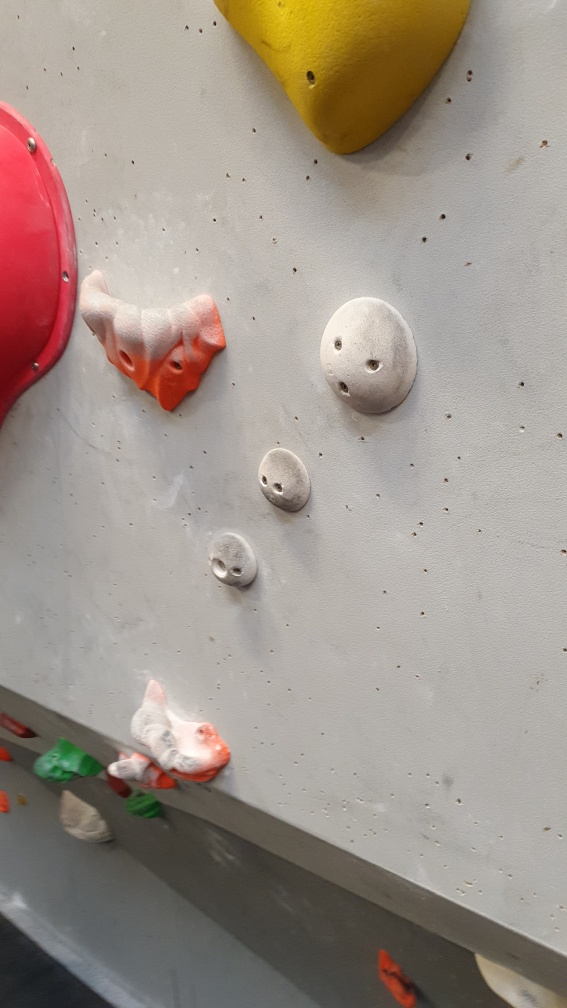Jug: (78, 264, 232, 418), (128, 678, 236, 789)
Sloper: (314, 294, 421, 419), (257, 444, 317, 516), (208, 532, 263, 593)
